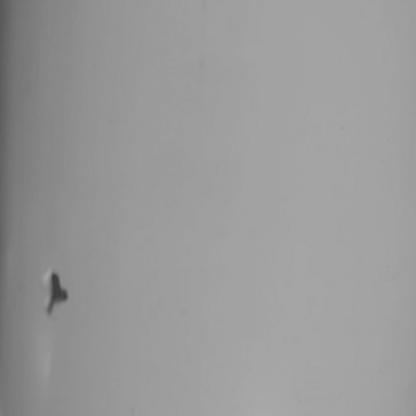kongdong: (30, 262, 77, 316)
